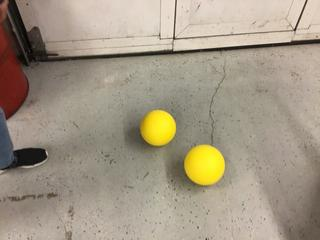power_cell: (136, 102, 183, 153), (183, 140, 228, 186)
